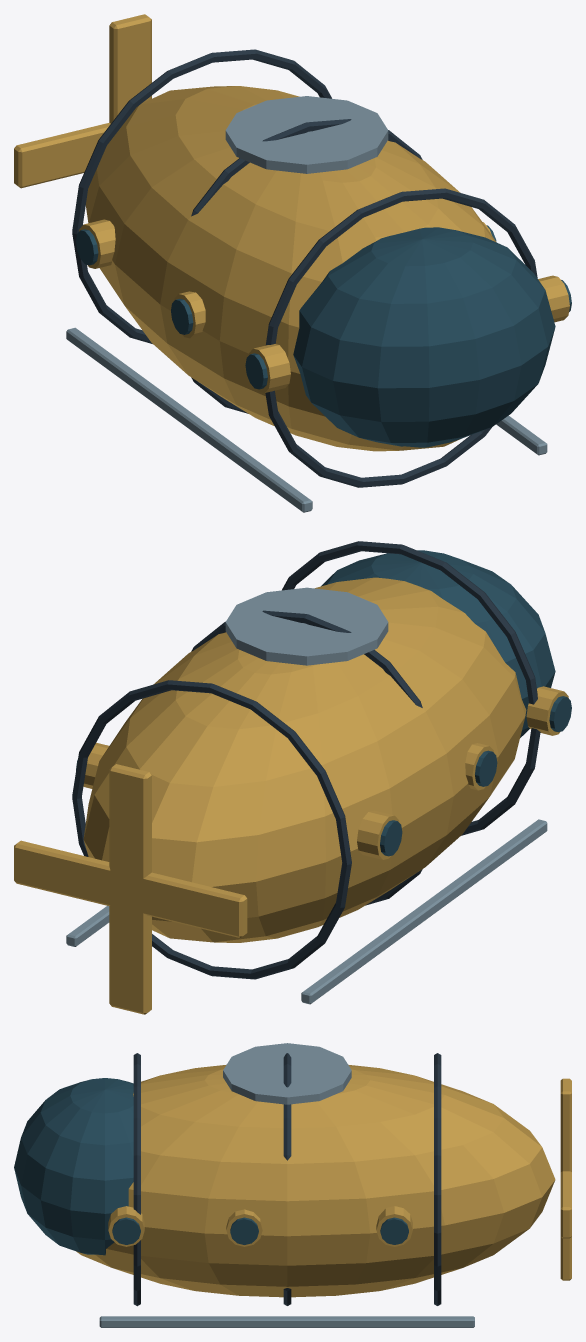
Rendered from submarines-research-sub.lod0.glb.
The picture shows the model from 3 angles, top to bottom: view 1: azimuth 30°, elevation 25°; view 2: azimuth 150°, elevation 25°; view 3: azimuth 270°, elevation 25°; orthographic projection. The views are drawn at different scales.
Visible parts, largest first — view 1: submarines-research-sub__body, submarines-research-sub__hatch, submarines-research-sub__propeller; view 2: submarines-research-sub__body, submarines-research-sub__propeller, submarines-research-sub__hatch; view 3: submarines-research-sub__body, submarines-research-sub__hatch, submarines-research-sub__propeller.
Part boxes in pixels (x1,y1,x2,y2): submarines-research-sub__body: (66, 49, 571, 512); submarines-research-sub__hatch: (225, 96, 388, 173); submarines-research-sub__propeller: (14, 14, 151, 188); submarines-research-sub__body: (66, 541, 571, 1004); submarines-research-sub__propeller: (14, 764, 247, 1014); submarines-research-sub__hatch: (225, 587, 388, 665); submarines-research-sub__body: (14, 1053, 555, 1327); submarines-research-sub__hatch: (223, 1043, 351, 1104); submarines-research-sub__propeller: (560, 1078, 571, 1280).
Size of the model in its own units: 2.94 by 2.67 by 5.83.
